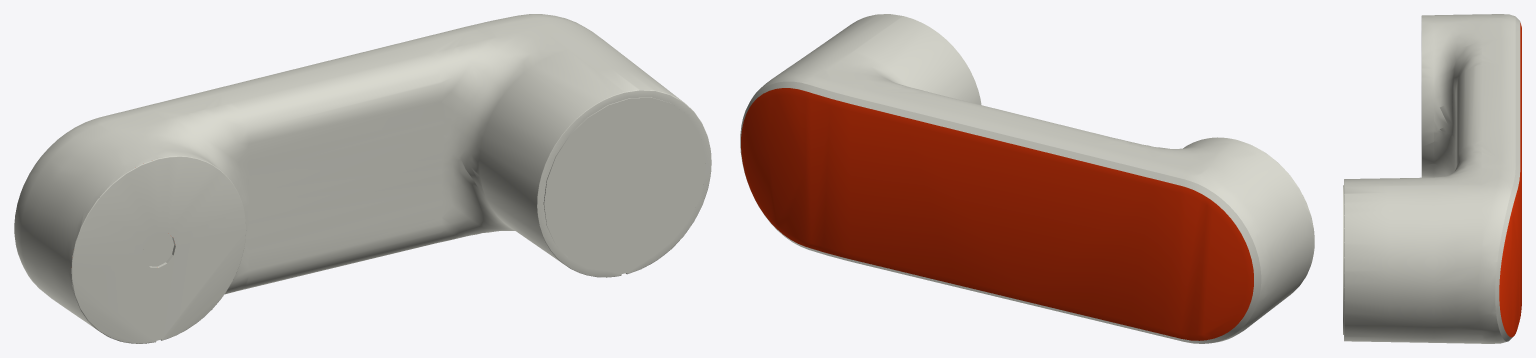
The picture shows the model from 3 angles, left to right: view 1: azimuth 30°, elevation 25°; view 2: azimuth 150°, elevation 25°; view 3: azimuth 270°, elevation 25°; orthographic projection. The views are drawn at different scales.
Parts seen in each view (by area): view 1: Mesh (×3); view 2: Mesh (×2); view 3: Mesh (×3).
Part boxes in pixels (left/top/right/bottom): Mesh (×3): left=14, top=14, right=711, bottom=343; Mesh (×2): left=740, top=14, right=1314, bottom=343; Mesh (×3): left=1343, top=14, right=1521, bottom=343.
Size of the model in its own units: 211 by 64.04 by 68.29.
